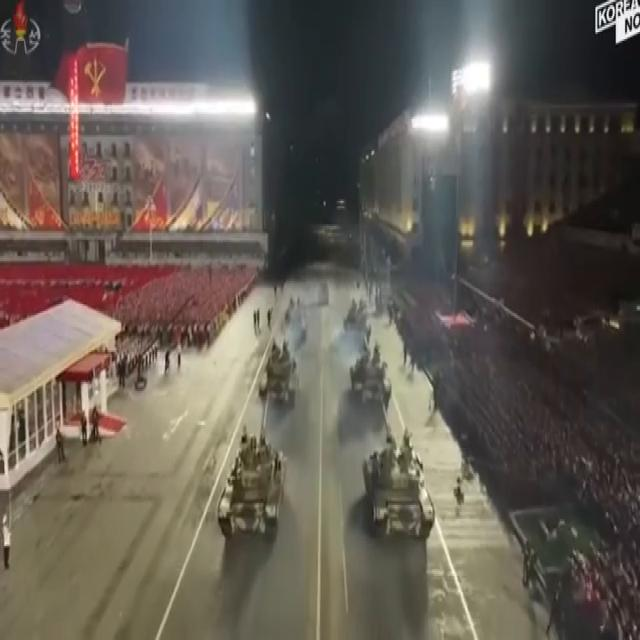north tank: (208, 404, 300, 559), (351, 428, 436, 572), (250, 330, 316, 426), (341, 342, 398, 417)
